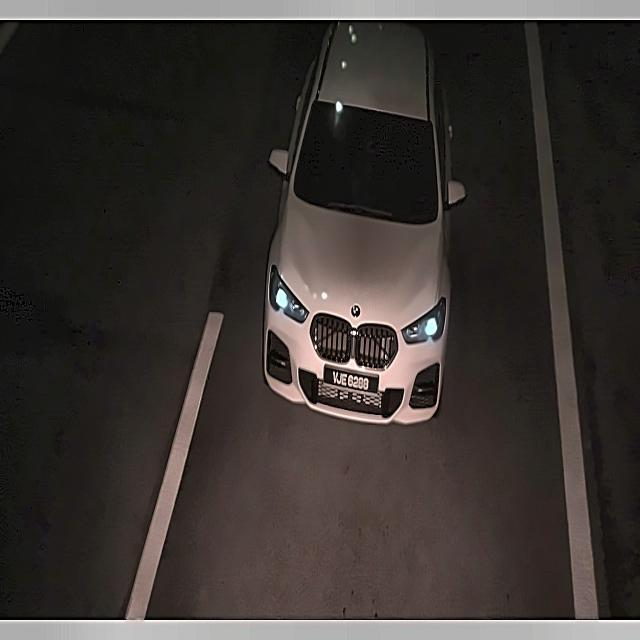car: (321, 363, 382, 398)
